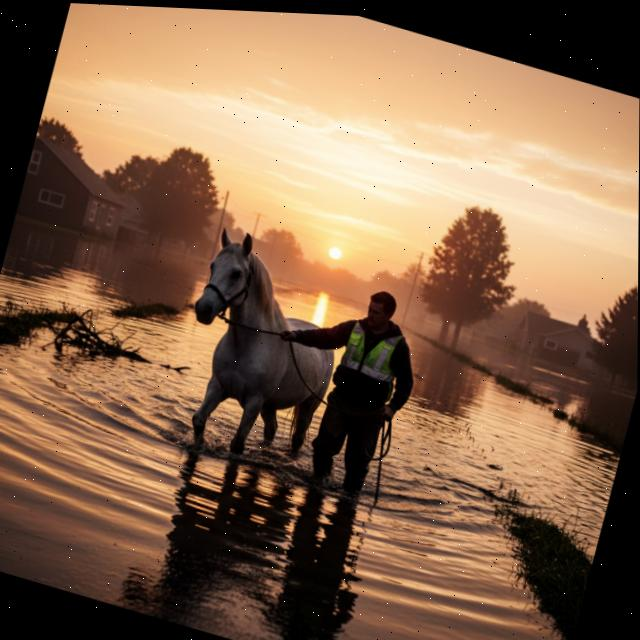civilian: (243, 238, 449, 529)
horse: (149, 213, 370, 485)
